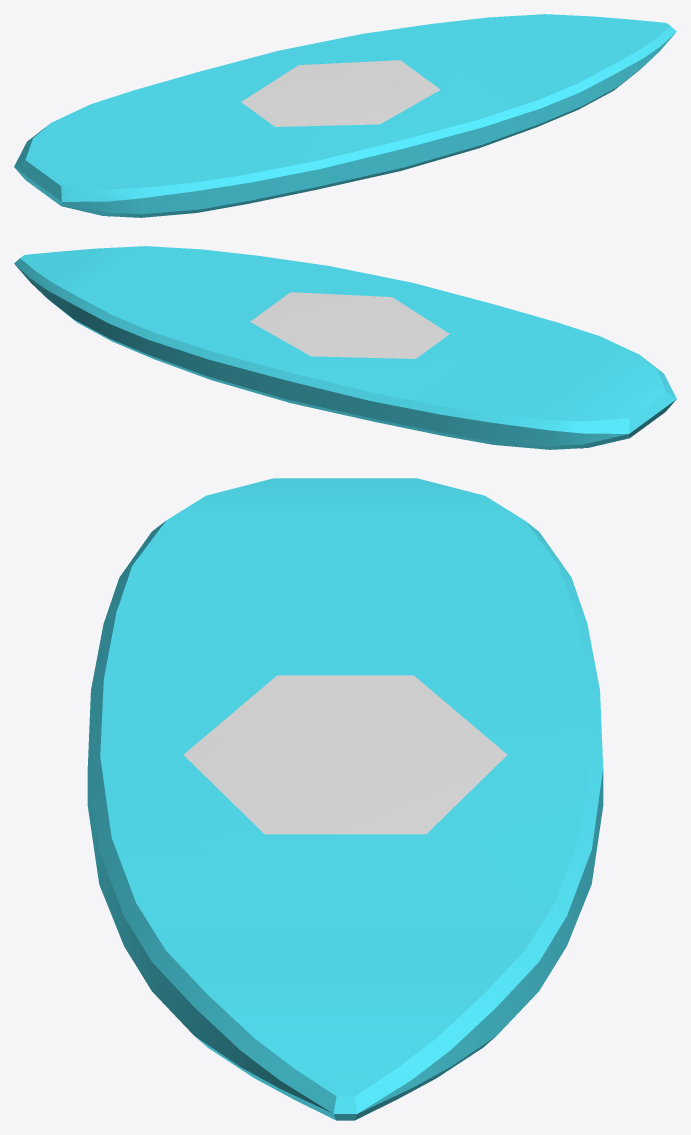
The model's file is sörf tahtası açık mavi.fbx.
The picture shows the model from 3 angles, top to bottom: view 1: azimuth 30°, elevation 25°; view 2: azimuth 150°, elevation 25°; view 3: azimuth 270°, elevation 25°; orthographic projection. The views are drawn at different scales.
Parts seen in each view (by area): view 1: pCube1; view 2: pCube1; view 3: pCube1.
Boxes of the visible parts, bbox=[...] form: pCube1: bbox=[14, 14, 676, 217]; pCube1: bbox=[14, 246, 676, 449]; pCube1: bbox=[87, 478, 603, 1120].
Bounding box in the file's own units: 294 × 29.19 × 103.
